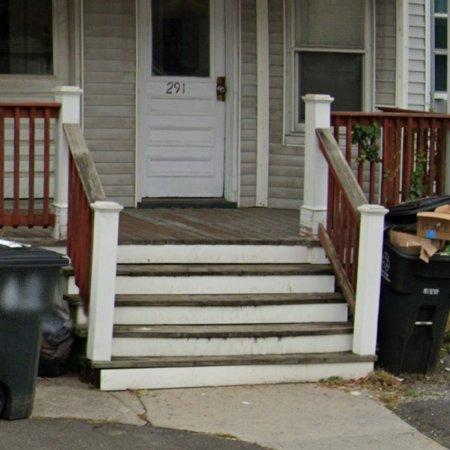stairs: (93, 208, 376, 391)
